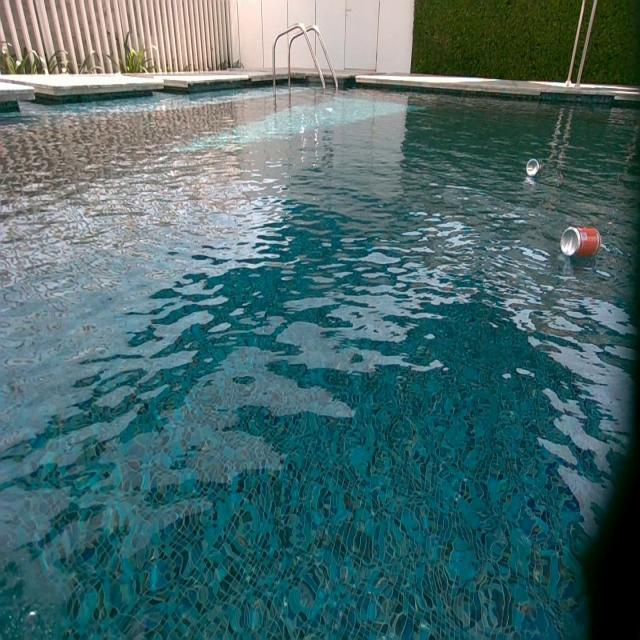Cans: (561, 227, 602, 260), (526, 160, 540, 178)
